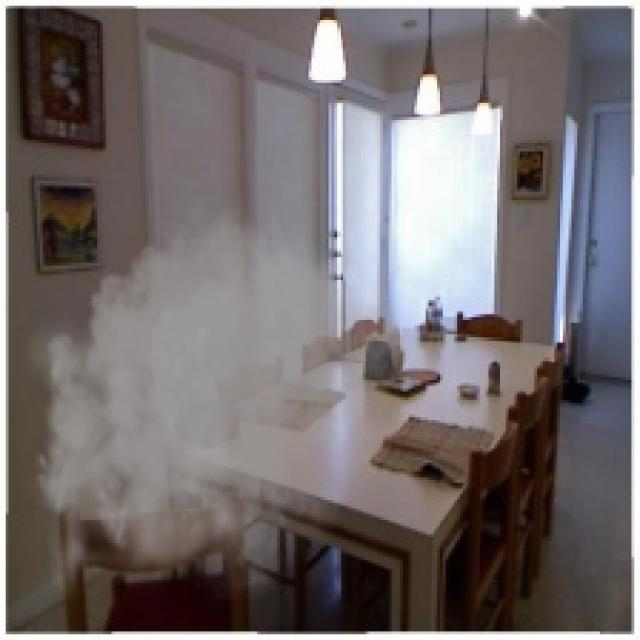smoke: (17, 194, 414, 612)
